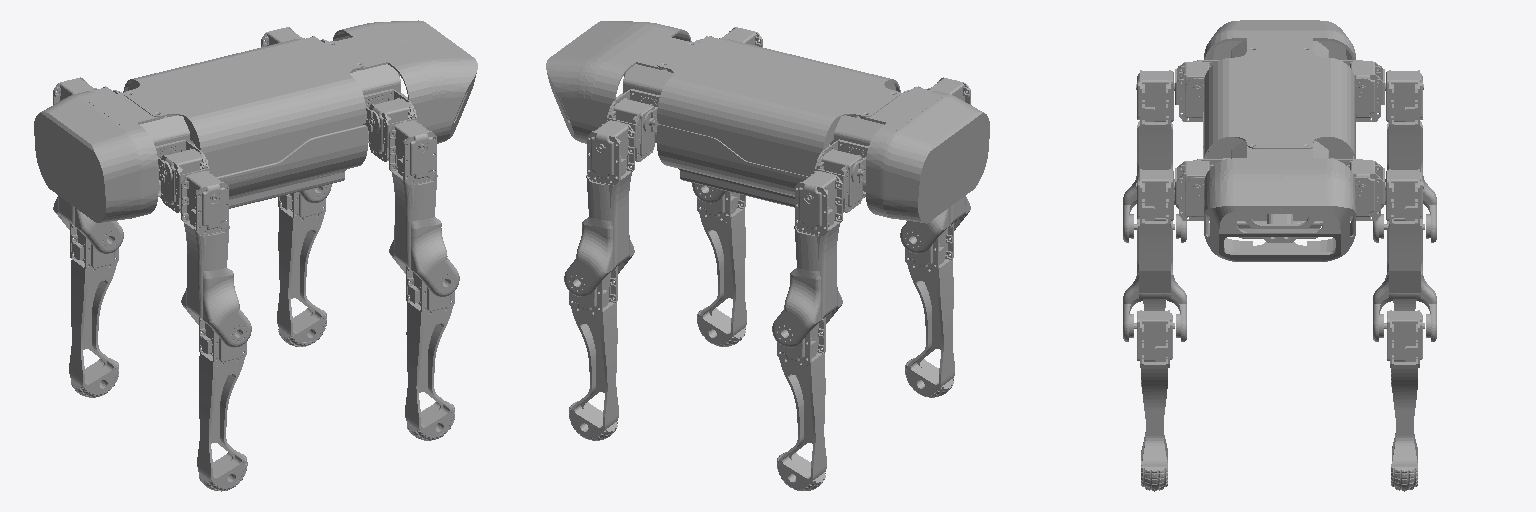
URDF robot description (greyh_urdfv3):
<?xml version="1.0" encoding="utf-8"?>
<!-- =================================================================================== -->
<!-- |    This document was autogenerated by xacro from greyh_urdfv3.xacro             | -->
<!-- |    EDITING THIS FILE BY HAND IS NOT RECOMMENDED                                 | -->
<!-- =================================================================================== -->
<robot name="greyh_urdfv3">

  <link name="base_link">
    <inertial>
      <origin rpy="0 0 0" xyz="-0.00042512772851683624 0.004221638435313149 0.015589862245031361"/>
      <mass value="6.554383863160311"/>
      <inertia ixx="0.098759" ixy="-3.7e-05" ixz="-7.8e-05" iyy="0.019695" iyz="0.000685" izz="0.104316"/>
    </inertial>
    <visual>
      <origin rpy="0 0 1.5708" xyz="0 0 0"/>
      <geometry>
        <mesh filename="package://greyh_urdfv3_description/meshes/base_link.stl" scale="0.001 0.001 0.001"/>
      </geometry>
      <material name="silver"/>
    </visual>
    <collision>
      <origin rpy="0 0 0" xyz="0 0 0"/>
      <geometry>
        <mesh filename="package://greyh_urdfv3_description/meshes/base_link.stl" scale="0.001 0.001 0.001"/>
      </geometry>
    </collision>
  </link>
  <link name="rh_hip">
    <inertial>
      <origin rpy="0 0 0" xyz="-0.0005774475532295958 -0.02045456069004066 -0.0109329246527541"/>
      <mass value="0.36497544273328236"/>
      <inertia ixx="0.000106" ixy="-0.0" ixz="1e-06" iyy="8.8e-05" iyz="1e-06" izz="7e-05"/>
    </inertial>
    <visual>
      <origin rpy="0 0 1.5708" xyz="0.1218 0.080703 -0.023266"/>
      <geometry>
        <mesh filename="package://greyh_urdfv3_description/meshes/Servo_top_back_right_1.stl" scale="0.001 0.001 0.001"/>
      </geometry>
      <material name="silver"/>
    </visual>
    <collision>
      <origin rpy="0 0 0" xyz="0.080698 -0.142289 -0.023266"/>
      <geometry>
        <mesh filename="package://greyh_urdfv3_description/meshes/Servo_top_back_right_1.stl" scale="0.001 0.001 0.001"/>
      </geometry>
    </collision>
  </link>
  <link name="lh_hip">
    <inertial>
      <origin rpy="0 0 0" xyz="0.0005773081177468803 -0.02054559851620981 -0.010932924656279847"/>
      <mass value="0.36497544270669313"/>
      <inertia ixx="0.000106" ixy="-0.0" ixz="-1e-06" iyy="8.8e-05" iyz="-1e-06" izz="7e-05"/>
    </inertial>
    <visual>
      <origin rpy="0 0 1.5708" xyz="0.1218 -0.080703 -0.023266"/>
      <geometry>
        <mesh filename="package://greyh_urdfv3_description/meshes/Servo_top_back_left_1.stl" scale="0.001 0.001 0.001"/>
      </geometry>
      <material name="silver"/>
    </visual>
    <collision>
      <origin rpy="0 0 0" xyz="-0.080703 -0.142289 -0.023266"/>
      <geometry>
        <mesh filename="package://greyh_urdfv3_description/meshes/Servo_top_back_left_1.stl" scale="0.001 0.001 0.001"/>
      </geometry>
    </collision>
  </link>
  <link name="lf_hip">
    <inertial>
      <origin rpy="0 0 0" xyz="0.0005773081177797013 -0.0205456303999636 -0.01093292465627984"/>
      <mass value="0.36497544270669446"/>
      <inertia ixx="0.000106" ixy="-0.0" ixz="-1e-06" iyy="8.8e-05" iyz="-1e-06" izz="7e-05"/>
    </inertial>
    <visual>
      <!-- <origin rpy="0 0 0" xyz="-0.080703 0.085811 -0.023266"/> -->
      <origin rpy="0 0 1.5708" xyz="-0.1063 -0.080703 -0.023266"/>
      <geometry>
        <mesh filename="package://greyh_urdfv3_description/meshes/Servo_top_front_left_1.stl" scale="0.001 0.001 0.001"/>
      </geometry>
      <material name="silver"/>
    </visual>
    <collision>
      <origin rpy="0 0 0" xyz="-0.080703 0.085811 -0.023266"/>
      <geometry>
        <mesh filename="package://greyh_urdfv3_description/meshes/Servo_top_front_left_1.stl" scale="0.001 0.001 0.001"/>
      </geometry>
    </collision>
  </link>
  <link name="rf_hip">
    <inertial>
      <origin rpy="0 0 0" xyz="-0.0005774475531919732 -0.020454592573804428 -0.010932924652754182"/>
      <mass value="0.36497544273328253"/>
      <inertia ixx="0.000106" ixy="-0.0" ixz="1e-06" iyy="8.8e-05" iyz="1e-06" izz="7e-05"/>
    </inertial>
    <visual>
      <origin rpy="0 0 1.5708" xyz="-0.1063 0.080703 -0.023266"/>
      <geometry>
        <mesh filename="package://greyh_urdfv3_description/meshes/Servo_top_right_front_1.stl" scale="0.001 0.001 0.001"/>
      </geometry>
      <material name="silver"/>
    </visual>
    <collision>
      <origin rpy="0 0 0" xyz="0.080698 0.085811 -0.023266"/>
      <geometry>
        <mesh filename="package://greyh_urdfv3_description/meshes/Servo_top_right_front_1.stl" scale="0.001 0.001 0.001"/>
      </geometry>
    </collision>
  </link>
  <link name="rf_leg">
    <inertial>
      <origin rpy="0 0 0" xyz="-0.020836314076387474 0.050844295953702955 -0.042522056832365956"/>
      <mass value="1.1847103675731914"/>
      <inertia ixx="0.002514" ixy="1.2e-05" ixz="-1e-05" iyy="0.001363" iyz="0.001144" izz="0.001638"/>
    </inertial>
    <visual>
      <origin rpy="-0.907571 0 1.5708" xyz="-0.0532 0.123 -0.0934"/>
      <geometry>
        <mesh filename="package://greyh_urdfv3_description/meshes/Top_leg_front_right_1.stl" scale="0.001 0.001 0.001"/>
      </geometry>
      <material name="silver"/>
    </visual>
    <collision>
      <origin rpy="0 0 0" xyz="0.101978 0.106311 -0.015516"/>
      <geometry>
        <mesh filename="package://greyh_urdfv3_description/meshes/Top_leg_front_right_1.stl" scale="0.001 0.001 0.001"/>
      </geometry>
    </collision>
  </link>
  <link name="rh_leg">
    <inertial>
      <origin rpy="0 0 0" xyz="-0.020836314076420448 0.050844175983900466 -0.0425220568323678"/>
      <mass value="1.1847103675731914"/>
      <inertia ixx="0.002514" ixy="1.2e-05" ixz="-1e-05" iyy="0.001363" iyz="0.001144" izz="0.001638"/>
    </inertial>
    <visual>
      <origin rpy="-0.907571 0 1.5708" xyz="0.0873 0.123 0.0865"/>
      <geometry>
        <mesh filename="package://greyh_urdfv3_description/meshes/Top_leg_back_right_1.stl" scale="0.001 0.001 0.001"/>
      </geometry>
      <material name="silver"/>
    </visual>
    <collision>
      <origin rpy="0 0 0" xyz="0.101978 -0.121789 -0.015516"/>
      <geometry>
        <mesh filename="package://greyh_urdfv3_description/meshes/Top_leg_back_right_1.stl" scale="0.001 0.001 0.001"/>
      </geometry>
    </collision>
  </link>
  <link name="lf_leg">
    <inertial>
      <origin rpy="0 0 0" xyz="0.020836211137286717 0.050844311873227535 -0.04252207117129895"/>
      <mass value="1.1847100227572713"/>
      <inertia ixx="0.002514" ixy="-1.2e-05" ixz="1e-05" iyy="0.001363" iyz="0.001144" izz="0.001638"/>
    </inertial>
    <visual>
      <origin rpy="-0.907571 0 1.5708" xyz="-0.0532 -0.123 -0.0934"/>
      <geometry>
        <mesh filename="package://greyh_urdfv3_description/meshes/Top_leg_front_left_1.stl" scale="0.001 0.001 0.001"/>
      </geometry>
      <material name="silver"/>
    </visual>
    <collision>
      <origin rpy="0 0 0" xyz="-0.101983 0.106311 -0.015516"/>
      <geometry>
        <mesh filename="package://greyh_urdfv3_description/meshes/Top_leg_front_left_1.stl" scale="0.001 0.001 0.001"/>
      </geometry>
    </collision>
  </link>
  <link name="lh_leg">
    <inertial>
      <origin rpy="0 0 0" xyz="0.0208362111372576 0.05084419190341423 -0.042522071171296534"/>
      <mass value="1.1847100227572713"/>
      <inertia ixx="0.002514" ixy="-1.2e-05" ixz="1e-05" iyy="0.001363" iyz="0.001144" izz="0.001638"/>
    </inertial>
    <visual>
      <origin rpy="-0.907571 0 1.5708" xyz="0.0873 -0.123 0.0865"/>
      <geometry>
        <mesh filename="package://greyh_urdfv3_description/meshes/Top_leg_back_left_1.stl" scale="0.001 0.001 0.001"/>
      </geometry>
      <material name="silver"/>
    </visual>
    <collision>
      <origin rpy="0 0 0" xyz="-0.101983 -0.121789 -0.015516"/>
      <geometry>
        <mesh filename="package://greyh_urdfv3_description/meshes/Top_leg_back_left_1.stl" scale="0.001 0.001 0.001"/>
      </geometry>
    </collision>
  </link>
  <link name="lf_lowleg">
    <inertial>
      <origin rpy="0 0 0" xyz="-0.017674250412893708 -0.035632881583845546 -0.049225936009879775"/>
      <mass value="0.7102156699004443"/>
      <inertia ixx="0.002727" ixy="2e-06" ixz="3e-06" iyy="0.001861" iyz="-0.001211" izz="0.000974"/>
    </inertial>
    <visual>
      <!-- <origin rpy="0 0 -1.5708" xyz="-0.140653 0.006595 0.08644"/> -->
      <origin rpy="0.610865 0 -1.5708" xyz="-0.0442 0.123 0.0745"/>
      <geometry>
        <mesh filename="package://greyh_urdfv3_description/meshes/Lower_leg_front_left_1.stl" scale="0.001 0.001 0.001"/>
      </geometry>
      <material name="silver"/>
    </visual>
    <collision>
      <origin rpy="0 0 0" xyz="-0.140653 0.006595 0.08644"/>
      <geometry>
        <mesh filename="package://greyh_urdfv3_description/meshes/Lower_leg_front_left_1.stl" scale="0.001 0.001 0.001"/>
      </geometry>
    </collision>
  </link>
  <link name="lh_lowleg">
    <inertial>
      <origin rpy="0 0 0" xyz="-0.01767425041291204 -0.03563300155365895 -0.049225936009877416"/>
      <mass value="0.7102156699004443"/>
      <inertia ixx="0.002727" ixy="2e-06" ixz="3e-06" iyy="0.001861" iyz="-0.001211" izz="0.000974"/>
    </inertial>
    <visual>
      <origin rpy="0.610865 0 -1.5708" xyz="-0.231 0.123 -0.0563"/>
      <geometry>
        <mesh filename="package://greyh_urdfv3_description/meshes/Lower_leg_back_left_1.stl" scale="0.001 0.001 0.001"/>
      </geometry>
      <material name="silver"/>
    </visual>
    <collision>
      <origin rpy="0 0 0" xyz="-0.140653 -0.221505 0.08644"/>
      <geometry>
        <mesh filename="package://greyh_urdfv3_description/meshes/Lower_leg_back_left_1.stl" scale="0.001 0.001 0.001"/>
      </geometry>
    </collision>
  </link>
  <link name="rh_lowleg">
    <inertial>
      <origin rpy="0 0 0" xyz="0.019326388704308667 -0.03563300155366442 -0.04922593600987639"/>
      <mass value="0.7102156699004443"/>
      <inertia ixx="0.002727" ixy="2e-06" ixz="3e-06" iyy="0.001861" iyz="-0.001211" izz="0.000974"/>
    </inertial>
    <visual>
      <origin rpy="0.610865 0 -1.5708" xyz="-0.231 -0.123 -0.0563"/>
      <geometry>
        <mesh filename="package://greyh_urdfv3_description/meshes/Lower_leg_back_right_1.stl" scale="0.001 0.001 0.001"/>
      </geometry>
      <material name="silver"/>
    </visual>
    <collision>
      <origin rpy="0 0 0" xyz="0.142148 -0.221505 0.08644"/>
      <geometry>
        <mesh filename="package://greyh_urdfv3_description/meshes/Lower_leg_back_right_1.stl" scale="0.001 0.001 0.001"/>
      </geometry>
    </collision>
  </link>
  <link name="rf_lowleg">
    <inertial>
      <origin rpy="0 0 0" xyz="0.019326388704328998 -0.03563288158386184 -0.049225936009874696"/>
      <mass value="0.7102156699004443"/>
      <inertia ixx="0.002727" ixy="2e-06" ixz="3e-06" iyy="0.001861" iyz="-0.001211" izz="0.000974"/>
    </inertial>
    <visual>
      <origin rpy="0.610865 0 -1.5708" xyz="-0.0442 -0.123 0.0745"/>
      <geometry>
        <mesh filename="package://greyh_urdfv3_description/meshes/Lower_leg_front_right_1.stl" scale="0.001 0.001 0.001"/>
      </geometry>
      <material name="silver"/>
    </visual>
    <collision>
      <origin rpy="0 0 0" xyz="0.142148 0.006595 0.08644"/>
      <geometry>
        <mesh filename="package://greyh_urdfv3_description/meshes/Lower_leg_front_right_1.stl" scale="0.001 0.001 0.001"/>
      </geometry>
    </collision>
  </link>
  <link name="lf_foot"/>
  <link name="rf_foot"/>
  <link name="lh_foot"/>
  <link name="rh_foot"/>
  <joint name="Rev1" type="revolute">
    <origin rpy="0 0 0" xyz="-0.1218 -0.080703 0.023266"/>
    <parent link="base_link"/>
    <child link="rh_hip"/>
    <axis xyz="1 0 0"/>

    <!-- Joint limits -->
    <limit lower="-3.1415" upper="3.1415" velocity="10" effort="100"/>
    <!-- Soft limits -->
    <safety_controller k_position="3"
                    k_velocity="1000"
                    soft_lower_limit="-3.1415"
                    soft_upper_limit="3.1415" />


  </joint>
  <joint name="Rev2" type="continuous">
    <origin rpy="0 0 0" xyz="-0.1218 0.080703 0.023266"/>
    <parent link="base_link"/>
    <child link="lh_hip"/>
    <axis xyz="1 0 0"/>

  </joint>
  <joint name="Rev3" type="continuous">
    <!-- <origin rpy="0 0 0" xyz="0.080703 -0.085811 0.023266"/> -->
    <origin rpy="0 0 0" xyz="0.1065 0.080703 0.023266"/>
    <parent link="base_link"/>
    <child link="lf_hip"/>
    <axis xyz="1 0 0"/>
  </joint>
  <joint name="Rev4" type="continuous">
    <origin rpy="0 0 0" xyz="0.1065 -0.080703 0.023266"/>
    <parent link="base_link"/>
    <child link="rf_hip"/>
    <axis xyz="1 0 0"/>
  </joint>
  <joint name="Rev5" type="continuous">
    <origin rpy="0 0 0" xyz="0 -0.041 -.0075"/>
    <parent link="rf_hip"/>
    <child link="rf_leg"/>
    <axis xyz="0 1 0 "/>
  </joint>
  <joint name="Rev6" type="revolute">
    <origin rpy="0 0 0" xyz="0 -0.041 -.0075"/>
    <parent link="rh_hip"/>
    <child link="rh_leg"/>
    <axis xyz="0 1 0 "/>


    <!-- Joint limits -->
    <limit lower="-3.1415" upper="3.1415" velocity="10" effort="100"/>
    <!-- Soft limits -->
    <safety_controller k_position="3"
                    k_velocity="1000"
                    soft_lower_limit="-3.1415"
                    soft_upper_limit="3.1415" />

  </joint>
  <joint name="Rev7" type="continuous">
    <origin rpy="0 0 0" xyz="0 0.041 -.0075"/>
    <parent link="lf_hip"/>
    <child link="lf_leg"/>
    <axis xyz="0 1 0 "/>
  </joint>
  <joint name="Rev8" type="continuous">
    <origin rpy="0 0 0" xyz="0 0.041 -.0075"/>
    <parent link="lh_hip"/>
    <child link="lh_leg"/>
    <axis xyz="0 1 0 "/>
  </joint>
  <joint name="Rev9" type="continuous">
    <origin rpy="0 0 0" xyz="0.019 0 -0.142"/>
    <parent link="lf_leg"/>
    <child link="lf_lowleg"/>
    <axis xyz="0 1 0 "/>
  </joint>
  <joint name="Rev10" type="continuous">
    <origin rpy="0 0 0" xyz="0.019 0 -0.142"/>
    <parent link="lh_leg"/>
    <child link="lh_lowleg"/>
    <axis xyz="0 1 0 "/>
  </joint>
  <joint name="Rev11" type="revolute">
    <origin rpy="0 0 0" xyz="0.019 0 -0.142"/>
    <parent link="rh_leg"/>
    <child link="rh_lowleg"/>
    <axis xyz="0 1 0 "/>

    <!-- Joint limits -->
    <limit lower="-3.1415" upper="3.1415" velocity="10" effort="100"/>
    <!-- Soft limits -->
    <safety_controller k_position="3"
                    k_velocity="1000"
                    soft_lower_limit="-3.1415"
                    soft_upper_limit="3.1415" />
  </joint>
  <joint name="Rev12" type="continuous">
    <origin rpy="0 0 0" xyz="0.019 0 -0.142"/>
    <parent link="rf_leg"/>
    <child link="rf_lowleg"/>
    <axis xyz="0 1 0 "/>
  </joint>
  <joint name="Rev13" type="fixed">
    <origin rpy="0 0 0" xyz="0 0 -0.176"/>
    <parent link="lf_lowleg"/>
    <child link="lf_foot"/>
  </joint>
  <joint name="Rev14" type="fixed">
    <origin rpy="0 0 0" xyz="0 0 -0.176"/>
    <parent link="lh_lowleg"/>
    <child link="lh_foot"/>
  </joint>
  <joint name="Rev15" type="fixed">
    <origin rpy="0 0 0" xyz="0 0 -0.176"/>
    <parent link="rh_lowleg"/>
    <child link="rh_foot"/>
  </joint>
  <joint name="Rev16" type="fixed">
    <origin rpy="0 0 0" xyz="0 0 -0.176"/>
    <parent link="rf_lowleg"/>
    <child link="rf_foot"/>
  </joint>

  <material name="silver">
    <color rgba="0.700 0.700 0.700 1.000"/>
  </material>
  <transmission name="Rev1_tran">
    <type>transmission_interface/SimpleTransmission</type>
    <joint name="Rev1">
      <hardwareInterface>hardware_interface/EffortJointInterface</hardwareInterface>
    </joint>
    <actuator name="Rev1_actr">
      <hardwareInterface>hardware_interface/EffortJointInterface</hardwareInterface>
      <mechanicalReduction>1</mechanicalReduction>
    </actuator>
  </transmission>
  <transmission name="Rev2_tran">
    <type>transmission_interface/SimpleTransmission</type>
    <joint name="Rev2">
      <hardwareInterface>hardware_interface/EffortJointInterface</hardwareInterface>
    </joint>
    <actuator name="Rev2_actr">
      <hardwareInterface>hardware_interface/EffortJointInterface</hardwareInterface>
      <mechanicalReduction>1</mechanicalReduction>
    </actuator>
  </transmission>
  <transmission name="Rev3_tran">
    <type>transmission_interface/SimpleTransmission</type>
    <joint name="Rev3">
      <hardwareInterface>hardware_interface/EffortJointInterface</hardwareInterface>
    </joint>
    <actuator name="Rev3_actr">
      <hardwareInterface>hardware_interface/EffortJointInterface</hardwareInterface>
      <mechanicalReduction>1</mechanicalReduction>
    </actuator>
  </transmission>
  <transmission name="Rev4_tran">
    <type>transmission_interface/SimpleTransmission</type>
    <joint name="Rev4">
      <hardwareInterface>hardware_interface/EffortJointInterface</hardwareInterface>
    </joint>
    <actuator name="Rev4_actr">
      <hardwareInterface>hardware_interface/EffortJointInterface</hardwareInterface>
      <mechanicalReduction>1</mechanicalReduction>
    </actuator>
  </transmission>
  <transmission name="Rev5_tran">
    <type>transmission_interface/SimpleTransmission</type>
    <joint name="Rev5">
      <hardwareInterface>hardware_interface/EffortJointInterface</hardwareInterface>
    </joint>
    <actuator name="Rev5_actr">
      <hardwareInterface>hardware_interface/EffortJointInterface</hardwareInterface>
      <mechanicalReduction>1</mechanicalReduction>
    </actuator>
  </transmission>
  <transmission name="Rev6_tran">
    <type>transmission_interface/SimpleTransmission</type>
    <joint name="Rev6">
      <hardwareInterface>hardware_interface/EffortJointInterface</hardwareInterface>
    </joint>
    <actuator name="Rev6_actr">
      <hardwareInterface>hardware_interface/EffortJointInterface</hardwareInterface>
      <mechanicalReduction>1</mechanicalReduction>
    </actuator>
  </transmission>
  <transmission name="Rev7_tran">
    <type>transmission_interface/SimpleTransmission</type>
    <joint name="Rev7">
      <hardwareInterface>hardware_interface/EffortJointInterface</hardwareInterface>
    </joint>
    <actuator name="Rev7_actr">
      <hardwareInterface>hardware_interface/EffortJointInterface</hardwareInterface>
      <mechanicalReduction>1</mechanicalReduction>
    </actuator>
  </transmission>
  <transmission name="Rev8_tran">
    <type>transmission_interface/SimpleTransmission</type>
    <joint name="Rev8">
      <hardwareInterface>hardware_interface/EffortJointInterface</hardwareInterface>
    </joint>
    <actuator name="Rev8_actr">
      <hardwareInterface>hardware_interface/EffortJointInterface</hardwareInterface>
      <mechanicalReduction>1</mechanicalReduction>
    </actuator>
  </transmission>
  <transmission name="Rev9_tran">
    <type>transmission_interface/SimpleTransmission</type>
    <joint name="Rev9">
      <hardwareInterface>hardware_interface/EffortJointInterface</hardwareInterface>
    </joint>
    <actuator name="Rev9_actr">
      <hardwareInterface>hardware_interface/EffortJointInterface</hardwareInterface>
      <mechanicalReduction>1</mechanicalReduction>
    </actuator>
  </transmission>
  <transmission name="Rev10_tran">
    <type>transmission_interface/SimpleTransmission</type>
    <joint name="Rev10">
      <hardwareInterface>hardware_interface/EffortJointInterface</hardwareInterface>
    </joint>
    <actuator name="Rev10_actr">
      <hardwareInterface>hardware_interface/EffortJointInterface</hardwareInterface>
      <mechanicalReduction>1</mechanicalReduction>
    </actuator>
  </transmission>
  <transmission name="Rev11_tran">
    <type>transmission_interface/SimpleTransmission</type>
    <joint name="Rev11">
      <hardwareInterface>hardware_interface/EffortJointInterface</hardwareInterface>
    </joint>
    <actuator name="Rev11_actr">
      <hardwareInterface>hardware_interface/EffortJointInterface</hardwareInterface>
      <mechanicalReduction>1</mechanicalReduction>
    </actuator>
  </transmission>
  <transmission name="Rev12_tran">
    <type>transmission_interface/SimpleTransmission</type>
    <joint name="Rev12">
      <hardwareInterface>hardware_interface/EffortJointInterface</hardwareInterface>
    </joint>
    <actuator name="Rev12_actr">
      <hardwareInterface>hardware_interface/EffortJointInterface</hardwareInterface>
      <mechanicalReduction>1</mechanicalReduction>
    </actuator>
  </transmission>
  <gazebo>
    <plugin filename="libgazebo_ros_control.so" name="control"/>
  </gazebo>
  <gazebo reference="base_link">
    <material>Gazebo/Silver</material>
    <mu1>0.2</mu1>
    <mu2>0.2</mu2>
    <selfCollide>true</selfCollide>
    <gravity>true</gravity>
  </gazebo>
  <gazebo reference="Servo_top_back_right_1">
    <material>Gazebo/Silver</material>
    <mu1>0.2</mu1>
    <mu2>0.2</mu2>
    <selfCollide>true</selfCollide>
  </gazebo>
  <gazebo reference="Servo_top_back_left_1">
    <material>Gazebo/Silver</material>
    <mu1>0.2</mu1>
    <mu2>0.2</mu2>
    <selfCollide>true</selfCollide>
  </gazebo>
  <gazebo reference="Servo_top_front_left_1">
    <material>Gazebo/Silver</material>
    <mu1>0.2</mu1>
    <mu2>0.2</mu2>
    <selfCollide>true</selfCollide>
  </gazebo>
  <gazebo reference="Servo_top_right_front_1">
    <material>Gazebo/Silver</material>
    <mu1>0.2</mu1>
    <mu2>0.2</mu2>
    <selfCollide>true</selfCollide>
  </gazebo>
  <gazebo reference="Top_leg_front_right_1">
    <material>Gazebo/Silver</material>
    <mu1>0.2</mu1>
    <mu2>0.2</mu2>
    <selfCollide>true</selfCollide>
  </gazebo>
  <gazebo reference="Top_leg_back_right_1">
    <material>Gazebo/Silver</material>
    <mu1>0.2</mu1>
    <mu2>0.2</mu2>
    <selfCollide>true</selfCollide>
  </gazebo>
  <gazebo reference="Top_leg_front_left_1">
    <material>Gazebo/Silver</material>
    <mu1>0.2</mu1>
    <mu2>0.2</mu2>
    <selfCollide>true</selfCollide>
  </gazebo>
  <gazebo reference="Top_leg_back_left_1">
    <material>Gazebo/Silver</material>
    <mu1>0.2</mu1>
    <mu2>0.2</mu2>
    <selfCollide>true</selfCollide>
  </gazebo>
  <gazebo reference="Lower_leg_front_left_1">
    <material>Gazebo/Silver</material>
    <mu1>0.2</mu1>
    <mu2>0.2</mu2>
    <selfCollide>true</selfCollide>
  </gazebo>
  <gazebo reference="Lower_leg_back_left_1">
    <material>Gazebo/Silver</material>
    <mu1>0.2</mu1>
    <mu2>0.2</mu2>
    <selfCollide>true</selfCollide>
  </gazebo>
  <gazebo reference="Lower_leg_back_right_1">
    <material>Gazebo/Silver</material>
    <mu1>0.2</mu1>
    <mu2>0.2</mu2>
    <selfCollide>true</selfCollide>
  </gazebo>
  <gazebo reference="Lower_leg_front_right_1">
    <material>Gazebo/Silver</material>
    <mu1>0.2</mu1>
    <mu2>0.2</mu2>
    <selfCollide>true</selfCollide>
  </gazebo>
</robot>

--- Facts derived from the render (not from the file) ---
3 views of the same robot in one strip: view 1: azimuth 30°, elevation 25°; view 2: azimuth 150°, elevation 25°; view 3: azimuth 270°, elevation 25° (orthographic).
Robot: greyh_urdfv3 — 17 links, 16 joints (3 revolute, 9 continuous, 4 fixed); root link base_link; default pose: every joint at zero.
Visible links, largest first — view 1: base_link, rf_leg, rh_leg, lh_lowleg, rf_lowleg, rh_lowleg, lf_lowleg, lh_leg, rh_hip, rf_hip, lf_leg; view 2: base_link, lf_leg, lh_leg, rh_lowleg, lf_lowleg, lh_lowleg, rf_lowleg, rh_leg, lf_hip, lh_hip, rf_leg; view 3: base_link, rf_leg, lf_leg, rf_lowleg, lf_lowleg, rh_leg, lh_leg, lf_hip, rf_hip, lh_hip, rh_hip.
Boxes of the visible links, box(x1,y1,x2,y2) form: base_link: box(34, 20, 477, 222); rf_leg: box(389, 120, 459, 296); rh_leg: box(181, 171, 251, 347); lh_lowleg: box(69, 223, 118, 397); rf_lowleg: box(405, 266, 454, 440); rh_lowleg: box(197, 317, 247, 491); lf_lowleg: box(277, 192, 326, 346); lh_leg: box(53, 77, 123, 253); rh_hip: box(161, 148, 208, 212); rf_hip: box(369, 98, 416, 161); lf_leg: box(261, 27, 331, 202); base_link: box(546, 21, 989, 223); lf_leg: box(564, 120, 634, 296); lh_leg: box(772, 171, 842, 347); rh_lowleg: box(905, 223, 954, 397); lf_lowleg: box(569, 266, 618, 440); lh_lowleg: box(777, 317, 826, 490); rf_lowleg: box(697, 191, 746, 346); rh_leg: box(900, 77, 970, 253); lf_hip: box(607, 98, 656, 161); lh_hip: box(815, 148, 864, 212); rf_leg: box(692, 27, 762, 203); base_link: box(1197, 20, 1362, 261); rf_leg: box(1123, 169, 1186, 341); lf_leg: box(1373, 169, 1436, 341); rf_lowleg: box(1134, 310, 1174, 491); lf_lowleg: box(1384, 310, 1424, 491); rh_leg: box(1123, 70, 1186, 242); lh_leg: box(1373, 70, 1436, 242); lf_hip: box(1346, 160, 1384, 220); rf_hip: box(1175, 160, 1213, 220); lh_hip: box(1348, 61, 1384, 121); rh_hip: box(1175, 61, 1211, 121).
Bounding box of the posed robot: 0.42 × 0.3061 × 0.3593 m (x, y, z).
13 mesh visuals loaded from 13 distinct referenced files (13 binary STL).
